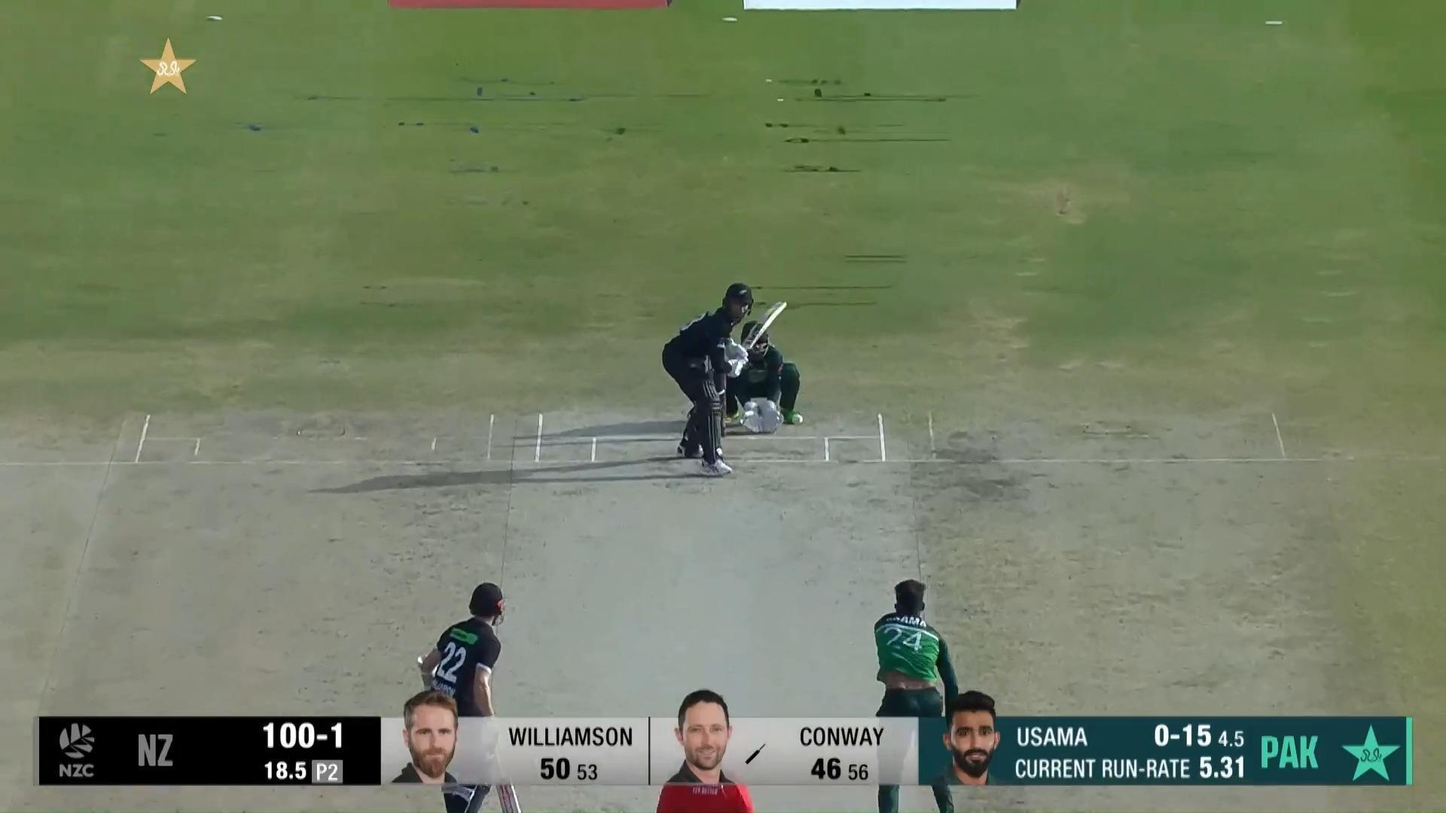BM 1: (662, 282, 788, 477)
BO: (870, 576, 964, 813)
